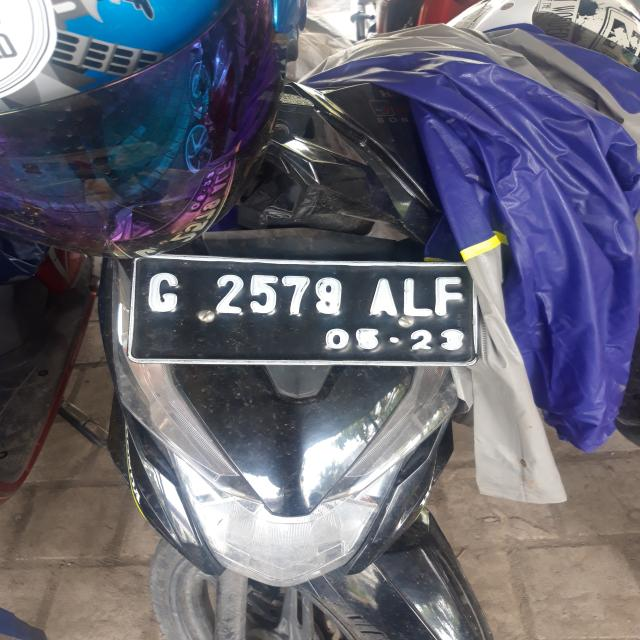plate: (127, 253, 481, 371)
